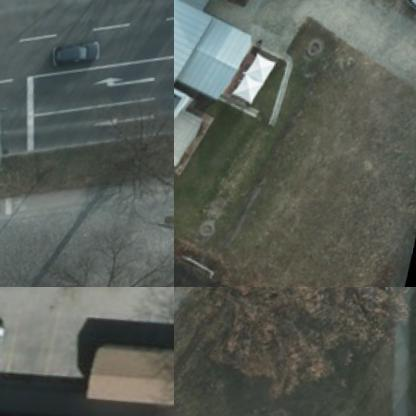car: (50, 34, 105, 71), (0, 320, 12, 391)
